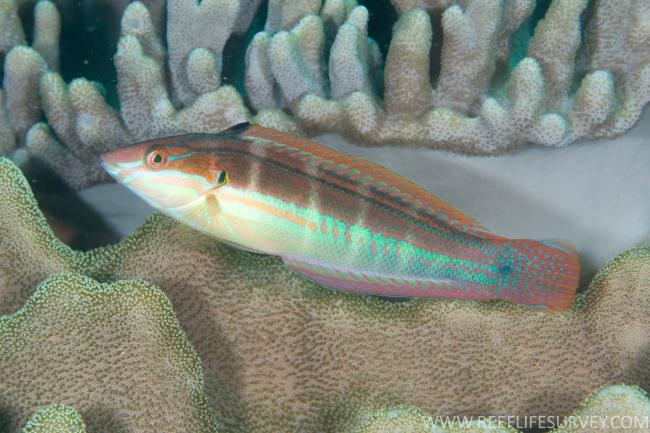fish: (98, 123, 581, 310)
